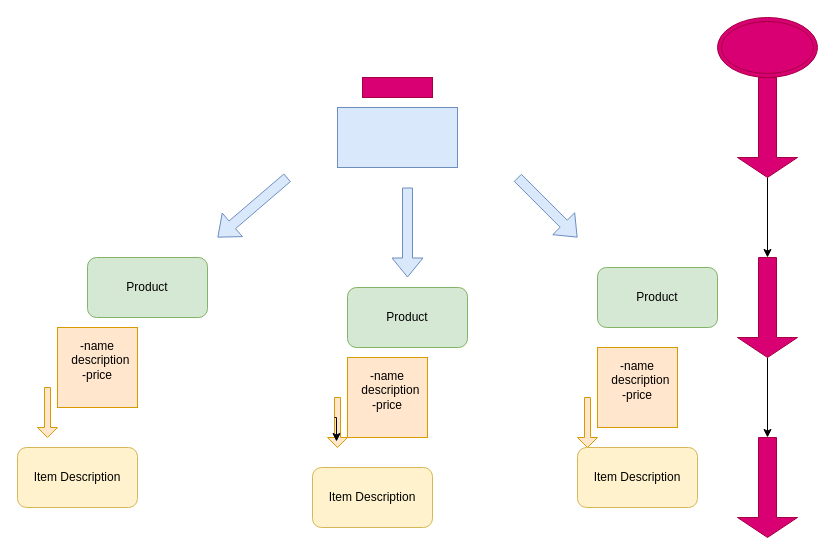
Image size: 835x555. Some labels were removed from this diagram. Each missing label, with the centre of its shape:
App: point (397, 137)
Props: point (767, 47)
React App: point (397, 87)
